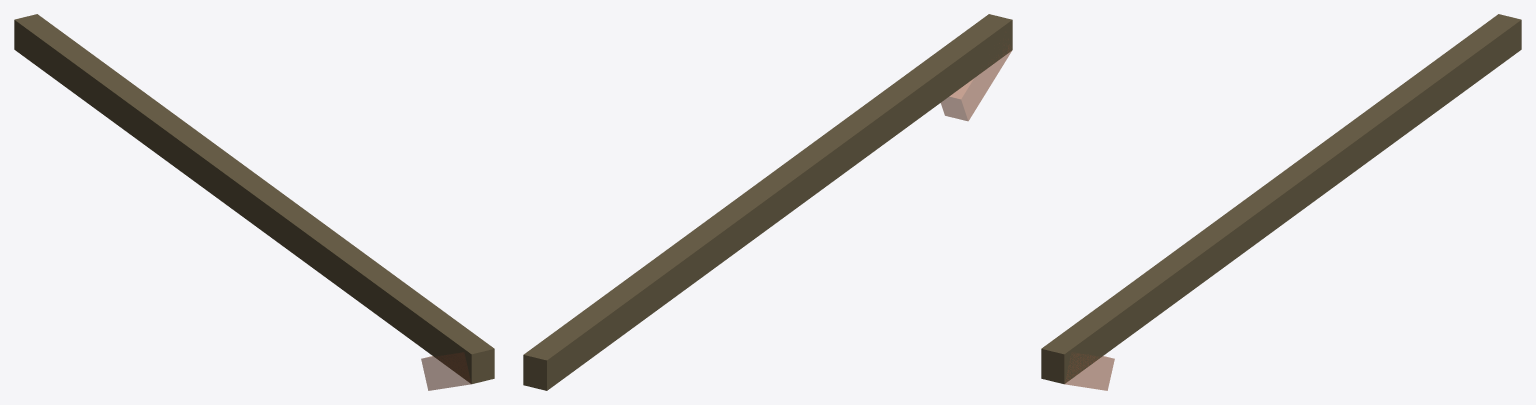
The picture shows the model from 3 angles, left to right: view 1: azimuth 30°, elevation 25°; view 2: azimuth 150°, elevation 25°; view 3: azimuth 330°, elevation 25°; orthographic projection.
Parts seen in each view (by area): view 1: Modern Entrance (Al-Mamun Tunnel), Al-Mamun Bypass Tunnel; view 2: Modern Entrance (Al-Mamun Tunnel), Al-Mamun Bypass Tunnel; view 3: Modern Entrance (Al-Mamun Tunnel), Al-Mamun Bypass Tunnel.
Part boxes in pixels (left/top/right/bottom): Modern Entrance (Al-Mamun Tunnel): left=14, top=14, right=494, bottom=384; Al-Mamun Bypass Tunnel: left=421, top=352, right=471, bottom=390; Modern Entrance (Al-Mamun Tunnel): left=523, top=14, right=1012, bottom=390; Al-Mamun Bypass Tunnel: left=941, top=46, right=1011, bottom=120; Modern Entrance (Al-Mamun Tunnel): left=1041, top=14, right=1521, bottom=384; Al-Mamun Bypass Tunnel: left=1065, top=353, right=1114, bottom=390.
Bounding box in the file's own units: 0.97 × 2.74 × 33.23.
